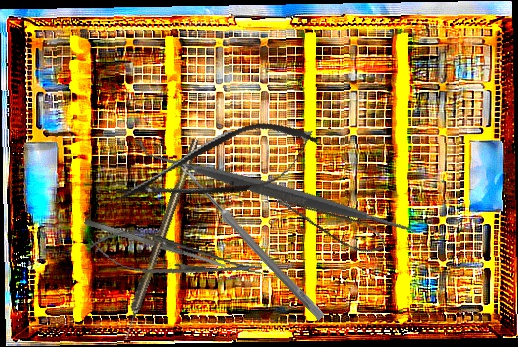Hook Surgical: (118, 137, 202, 342)
Micro Scissor: (108, 108, 325, 227), (274, 179, 390, 263)
Needle Holder: (85, 223, 267, 293)
Spatula Surgical: (138, 51, 423, 333), (83, 217, 227, 271)
Surgical Spoon: (178, 163, 326, 321)
